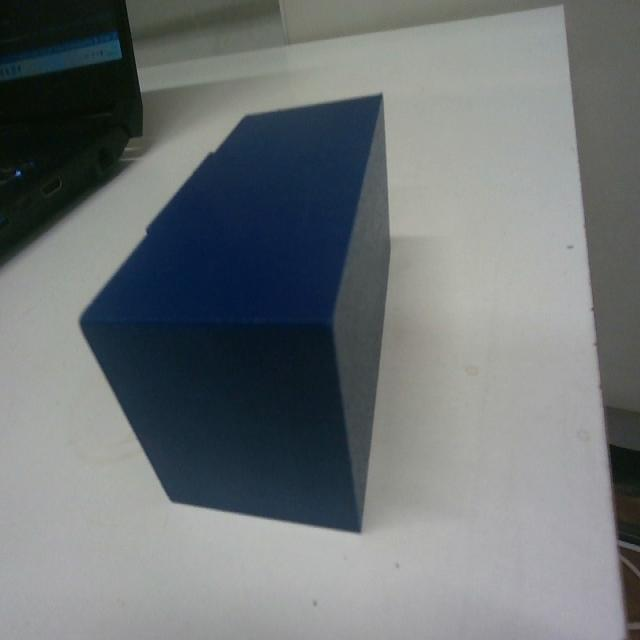Blue Cuboid: (78, 88, 393, 533)
